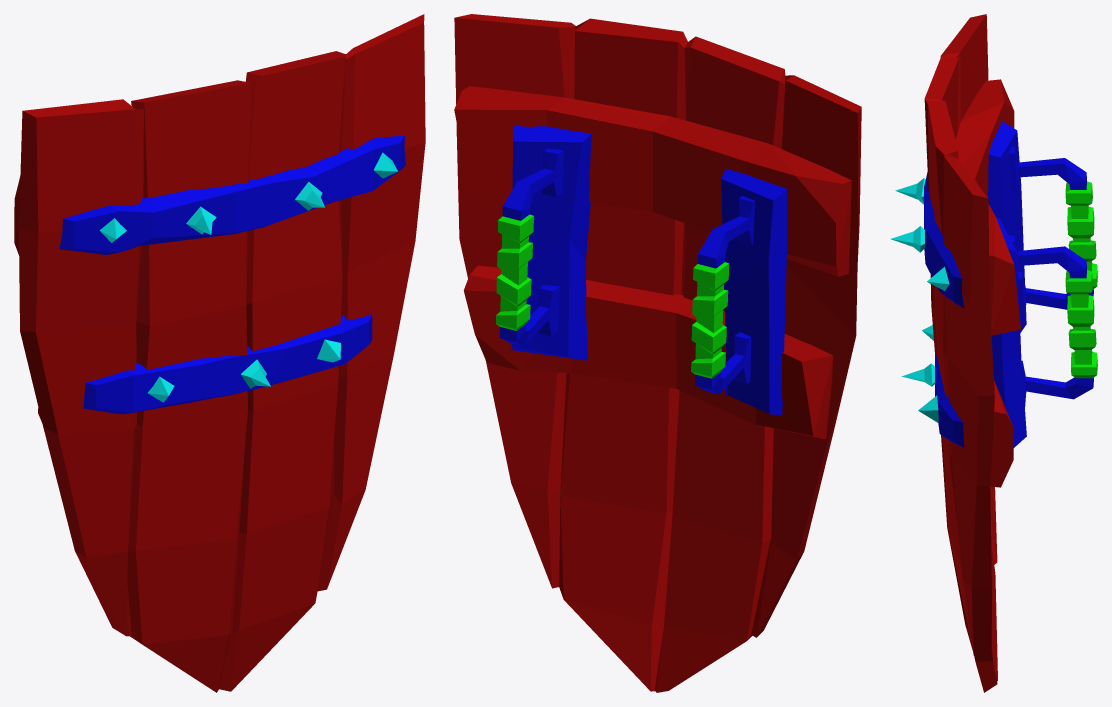
Rendered from Sheild_Common_WoodenGreatsheild.fbx.
The picture shows the model from 3 angles, left to right: view 1: azimuth 30°, elevation 25°; view 2: azimuth 150°, elevation 25°; view 3: azimuth 270°, elevation 25°; orthographic projection. The views are drawn at different scales.
Visible parts, largest first — view 1: SM_Wep_Shield_05; view 2: SM_Wep_Shield_05; view 3: SM_Wep_Shield_05.
Part boxes in pixels (box(x1,y1,x2,y2)): SM_Wep_Shield_05: box(14, 14, 425, 692); SM_Wep_Shield_05: box(454, 14, 861, 692); SM_Wep_Shield_05: box(891, 14, 1097, 692).
Size of the model in its own units: 63.31 by 95.36 by 30.32.
